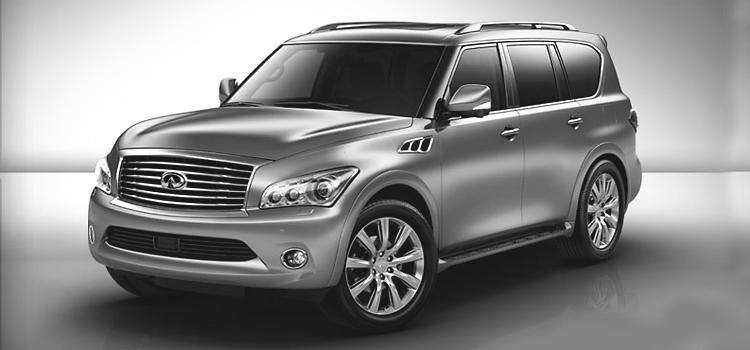car: (85, 19, 646, 334)
